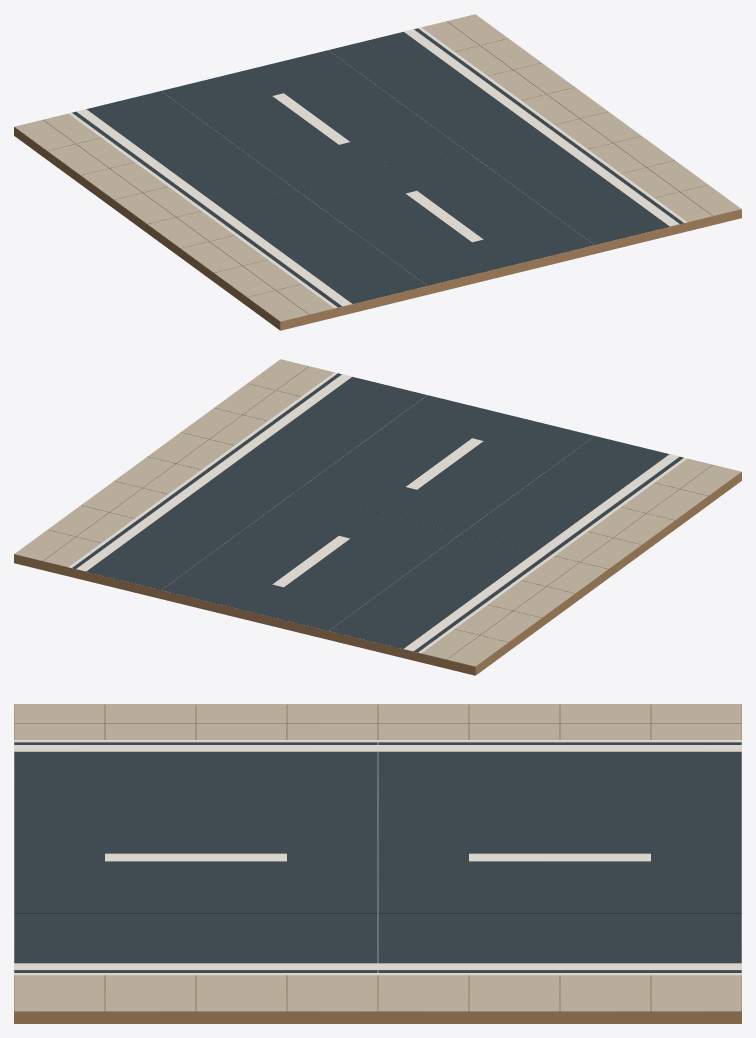
Rendered from runway_section.fbx.
3 views of the same model, one above another, from view 1: azimuth 30°, elevation 25°; view 2: azimuth 150°, elevation 25°; view 3: azimuth 270°, elevation 25° (orthographic). The views are drawn at different scales.
Visible parts, largest first — view 1: runway_section; view 2: runway_section; view 3: runway_section.
Boxes of the visible parts, x1,y1,x2,y2 form: runway_section: [14, 14, 741, 330]; runway_section: [14, 359, 741, 675]; runway_section: [14, 704, 741, 1023].
Size of the model in its own units: 16 by 0.304 by 16.
